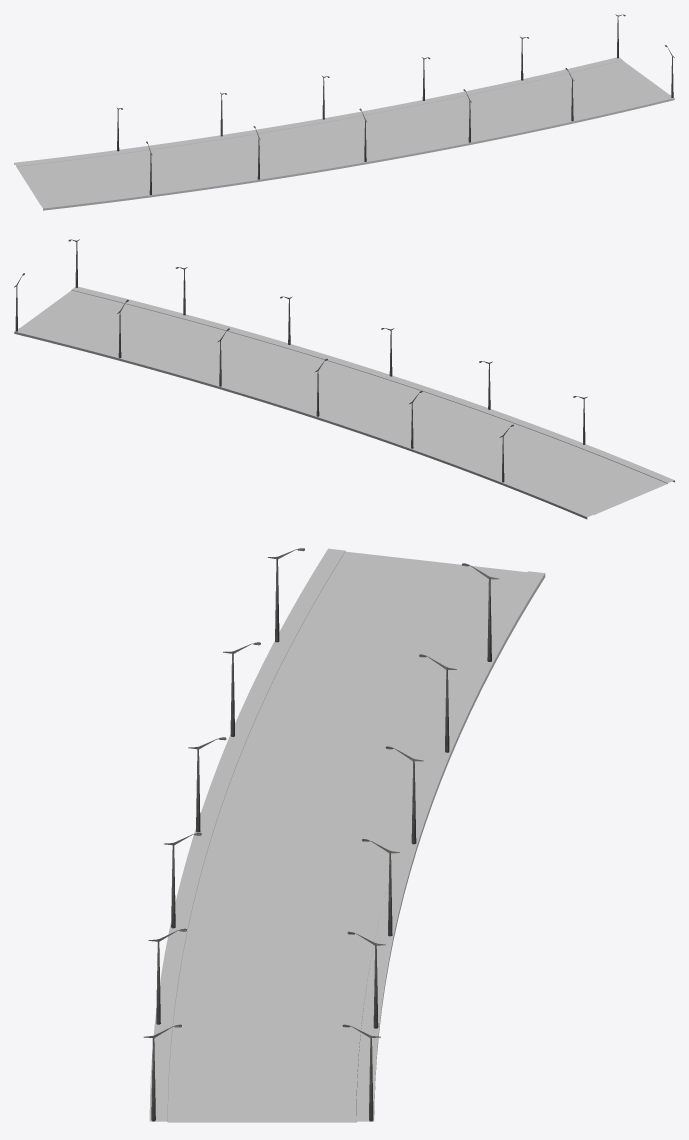
Rendered from Big_Road_15.FBX.
3 views of the same model, one above another, from view 1: azimuth 30°, elevation 25°; view 2: azimuth 150°, elevation 25°; view 3: azimuth 270°, elevation 25° (orthographic). The views are drawn at different scales.
Visible parts, largest first — view 1: Big_Road_15, city_light002; view 2: Big_Road_15, city_light002; view 3: Big_Road_15, city_light002.
Part boxes in pixels (box(x1,y1,x2,y2)): Big_Road_15: box(14, 57, 674, 210); city_light002: box(116, 14, 674, 194); Big_Road_15: box(14, 286, 674, 519); city_light002: box(14, 239, 587, 482); Big_Road_15: box(149, 548, 545, 1122); city_light002: box(143, 548, 498, 1121).
Size of the model in its own units: 137 by 40.51 by 11.04.
